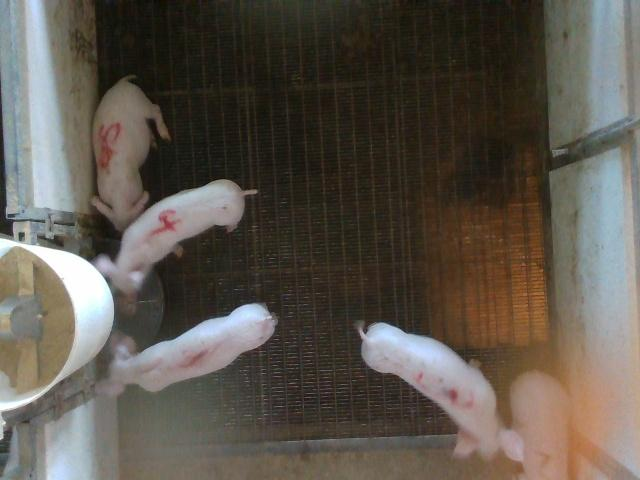pig-1: (98, 304, 276, 395)
pig-3: (358, 322, 522, 461)
pig-4: (95, 179, 256, 293)
pig-5: (91, 75, 170, 231)
